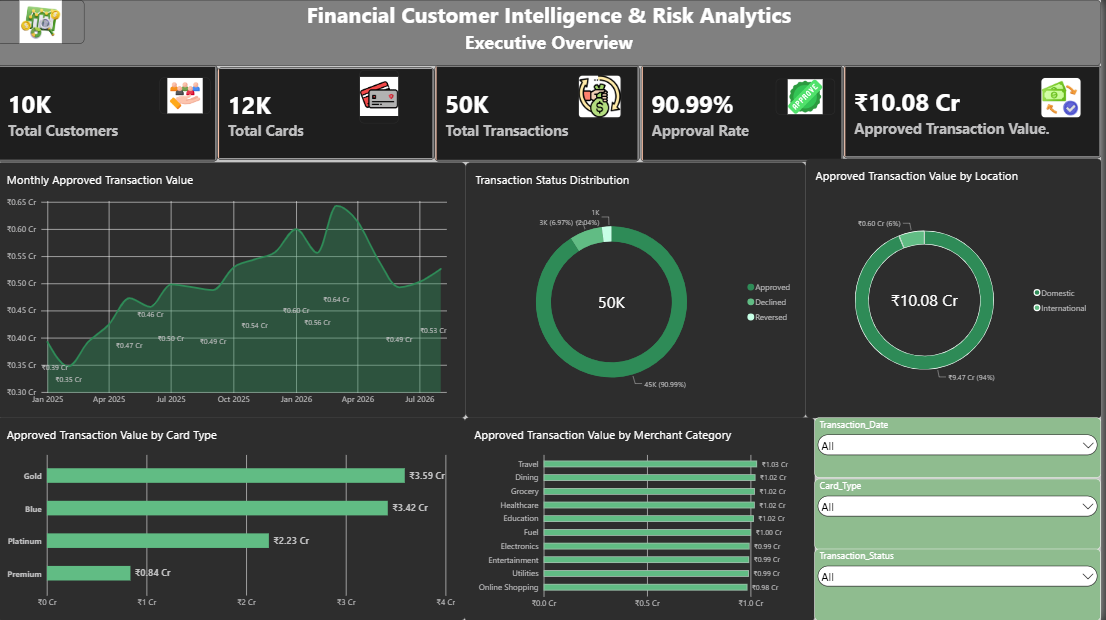

The dashboard page shown, as its layout file describes it:
{"tool":"powerbi","page":{"name":"Executive Overview","canvas":[1920,1080],"ordinal":0},"visuals":[{"type":"cardVisual","fields":{"Data":["Customers.Total Customers"]},"box":[0,114,383.6,168.3],"z":0},{"type":"cardVisual","fields":{"Data":["Cards.Total Cards"]},"box":[383.6,117.6,378.2,161.1],"z":1000},{"type":"cardVisual","fields":{"Data":["Transactions.Total Transactions"]},"box":[761.9,114,356.5,168.3],"z":2000},{"type":"cardVisual","fields":{"Data":["Transactions.Approval Rate"]},"box":[1118.7,113.5,352.3,168.6],"z":3000},{"type":"cardVisual","fields":{"Data":["Transactions.Approved Transaction Value Cr"]},"box":[1471.3,112.2,449.5,162.3],"z":4000},{"type":"textbox","box":[0,0,1920.1,114],"z":5000},{"type":"stackedAreaChart","title":"Monthly Approved Transaction Value","fields":{"Y":["Transactions.Approved Transaction Value Cr"],"Category":["Transactions.Transaction_Date.Variation.Date Hierarchy.Year","Transactions.Transaction_Date.Variation.Date Hierarchy.Month"]},"box":[0,282.2,814.8,444.2],"z":6000},{"type":"donutChart","title":"Transaction Status Distribution","fields":{"Category":["Transactions.Transaction_Status"],"Y":["Transactions.Total Transactions"]},"box":[814.8,282.2,591.1,444.2],"z":7000},{"type":"barChart","title":"Approved Transaction Value by Card Type","fields":{"Category":["Cards.Card_Type"],"Y":["Transactions.Approved Transaction Value Cr"]},"box":[0,725.7,814.3,352.9],"z":8000},{"type":"barChart","title":"Approved Transaction Value by Merchant Category","fields":{"Category":["Transactions.Merchant_Category"],"Y":["Transactions.Approved Transaction Value Cr"]},"box":[813.7,725.5,608.7,354.6],"z":9000},{"type":"donutChart","title":"Approved Transaction Value by Location","fields":{"Category":["Transactions.Location"],"Y":["Transactions.Approved Transaction Value Cr"]},"box":[1405.9,275.5,514.3,450.8],"z":10000},{"type":"slicer","fields":{"Values":["Transactions.Transaction_Date"]},"box":[1422.4,725.5,498,104.5],"z":11000},{"type":"slicer","fields":{"Values":["Cards.Card_Type"]},"box":[1422.6,831.5,497.6,123.6],"z":12000},{"type":"slicer","fields":{"Values":["Transactions.Transaction_Status"]},"box":[1422.6,955.1,497.6,125.2],"z":13000},{"type":"image","box":[282.3,135.7,88.7,63.3],"z":14000},{"type":"image","box":[629.7,122.1,68,92.4],"z":15000},{"type":"image","box":[1009.9,130.8,75,75],"z":16000},{"type":"image","box":[1355.2,136,102.9,62.8],"z":17000},{"type":"image","box":[1815.1,133.9,70.6,70.6],"z":18000},{"type":"image","box":[0,0,152,76],"z":19000}]}

Visuals, with their boxes in screenshot pixels (x1, y1, x2, y2), scaled from the page's 1920x1080 canvas onto the 1106x620 screenshot:
cardVisual - Customers.Total Customers: box(0, 65, 221, 162)
cardVisual - Cards.Total Cards: box(221, 68, 439, 160)
cardVisual - Transactions.Total Transactions: box(439, 65, 644, 162)
cardVisual - Transactions.Approval Rate: box(644, 65, 847, 162)
cardVisual - Transactions.Approved Transaction Value Cr: box(848, 64, 1105, 158)
textbox: box(0, 0, 1105, 65)
"Monthly Approved Transaction Value" stackedAreaChart: box(0, 162, 469, 417)
"Transaction Status Distribution" donutChart: box(469, 162, 810, 417)
"Approved Transaction Value by Card Type" barChart: box(0, 417, 469, 619)
"Approved Transaction Value by Merchant Category" barChart: box(469, 416, 819, 619)
"Approved Transaction Value by Location" donutChart: box(810, 158, 1105, 417)
slicer - Transactions.Transaction_Date: box(819, 416, 1105, 476)
slicer - Cards.Card_Type: box(819, 477, 1105, 548)
slicer - Transactions.Transaction_Status: box(819, 548, 1105, 619)
image: box(163, 78, 214, 114)
image: box(363, 70, 402, 123)
image: box(582, 75, 625, 118)
image: box(781, 78, 840, 114)
image: box(1046, 77, 1086, 117)
image: box(0, 0, 88, 44)
